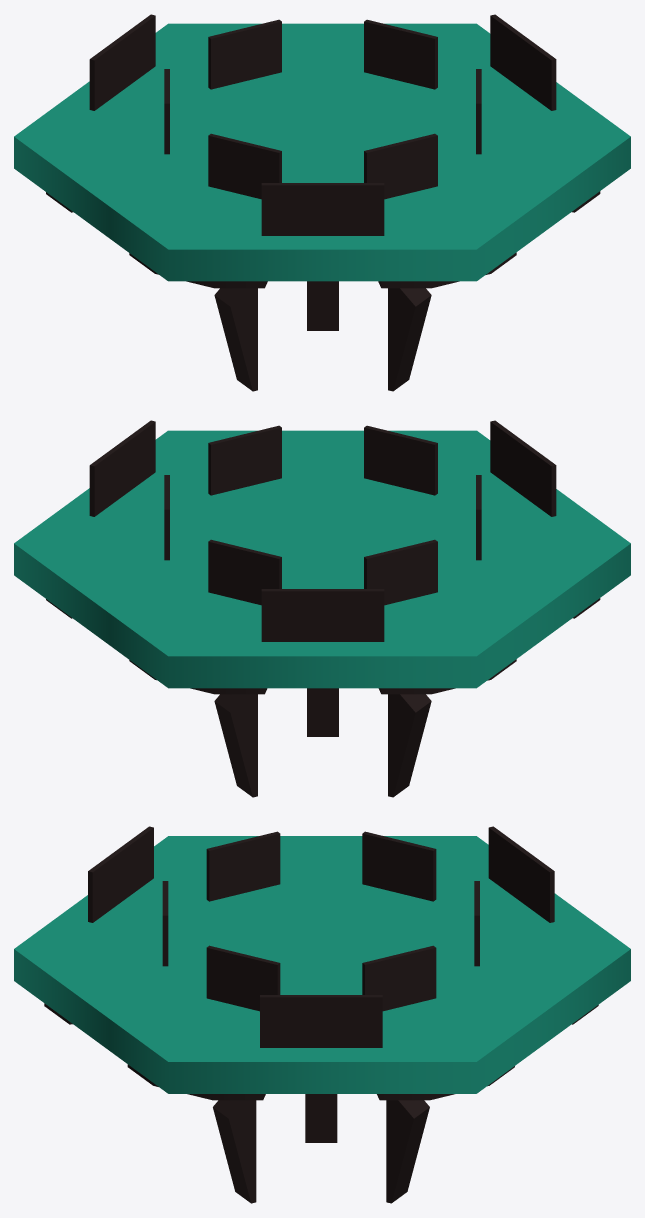
File: tile_float.fbx
3 views of the same model, one above another, from view 1: azimuth 30°, elevation 25°; view 2: azimuth 150°, elevation 25°; view 3: azimuth 270°, elevation 25° (orthographic).
Visible parts, largest first — view 1: tile047; view 2: tile047; view 3: tile047.
Boxes of the visible parts, x1,y1,x2,y2 form: tile047: (14, 14, 630, 391); tile047: (14, 420, 630, 797); tile047: (14, 826, 630, 1203).
Size of the model in its own units: 3031 by 1755 by 3500.
